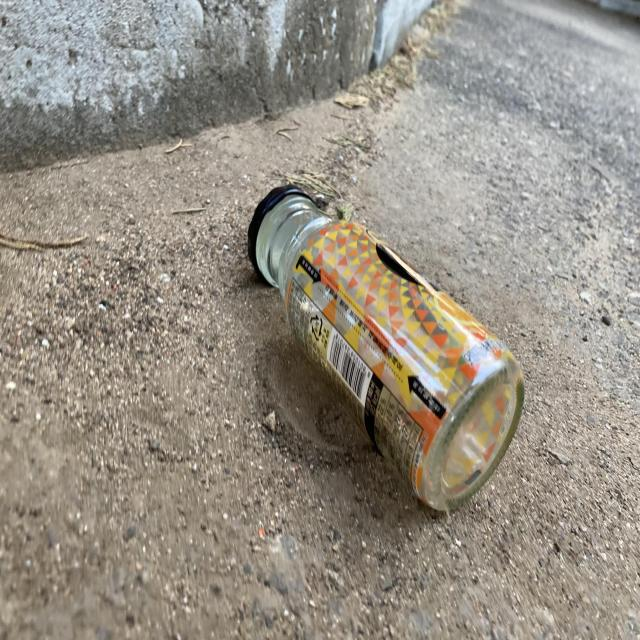glass: (248, 185, 525, 511)
